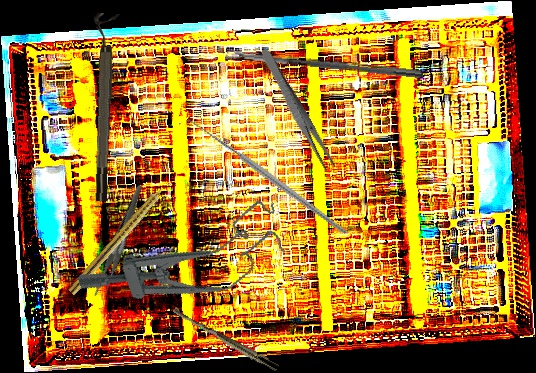Dressing Forceps: (67, 184, 174, 302), (256, 46, 338, 174)
Fixation Ring: (84, 12, 120, 202)
Handpiece: (67, 178, 174, 298)
Hook Surgical: (178, 78, 348, 278)
Speculum: (72, 196, 295, 333)
Surgical Spoon: (226, 48, 424, 79)
Tissue Forceps: (170, 306, 281, 373)
